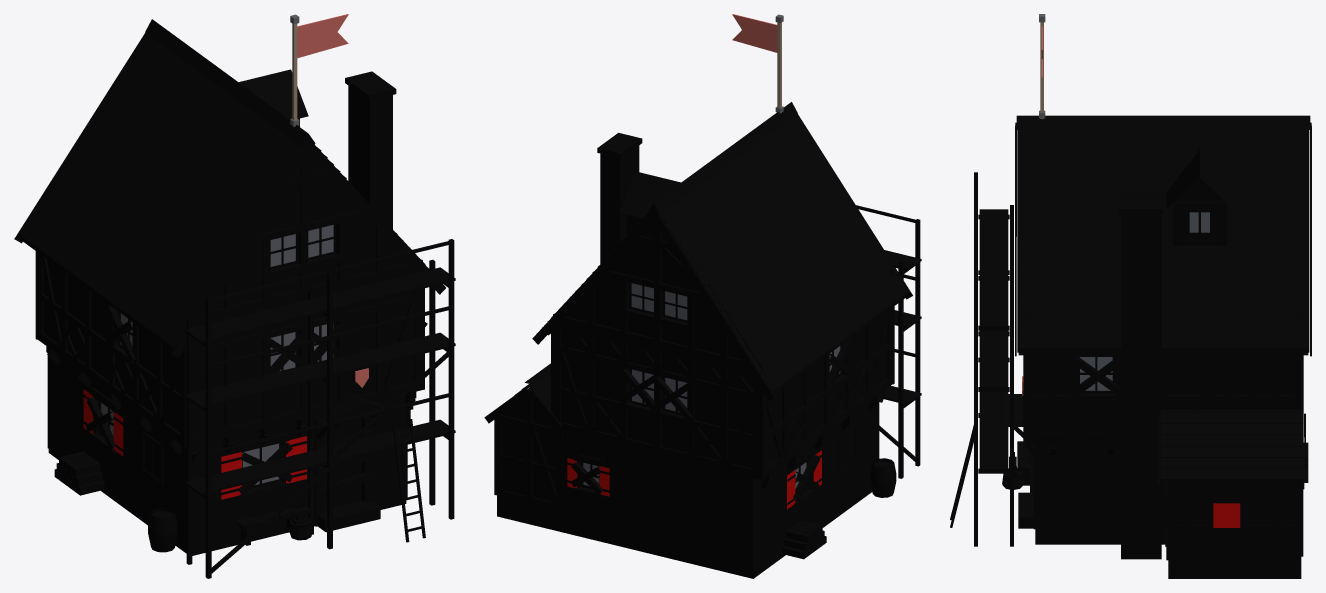
The model's file is wohnhaus_zwerg_s2_g2.glb.
3 renders of one model, left to right at view 1: azimuth 30°, elevation 25°; view 2: azimuth 150°, elevation 25°; view 3: azimuth 270°, elevation 25°, orthographic. The views are drawn at different scales.
Parts seen in each view (by area): view 1: Haus, Dach, Geruest, Leerstand, Scheiben, Fahne; view 2: Haus, Dach, Geruest, Leerstand, Scheiben, Fahne; view 3: Dach, Haus, Geruest, Leerstand, Scheiben, Fahne.
Part boxes in pixels (box(x1,y1,x2,y2)): Haus: box(35, 36, 425, 555); Dach: box(14, 19, 445, 358); Geruest: box(185, 239, 455, 578); Leerstand: box(86, 306, 373, 497); Scheiben: box(101, 225, 333, 484); Fahne: box(290, 14, 348, 126); Haus: box(494, 117, 896, 578); Dach: box(484, 102, 912, 430); Geruest: box(856, 205, 921, 478); Leerstand: box(571, 337, 853, 501); Scheiben: box(583, 283, 840, 488); Fahne: box(732, 14, 783, 113); Dach: box(1015, 115, 1311, 482); Haus: box(1002, 131, 1304, 578); Geruest: box(950, 172, 1013, 546); Leerstand: box(1018, 352, 1308, 495); Scheiben: box(1080, 212, 1209, 390); Fahne: box(1039, 14, 1045, 118).
Bounding box in the file's own units: 7.99 × 11.75 × 8.03.
